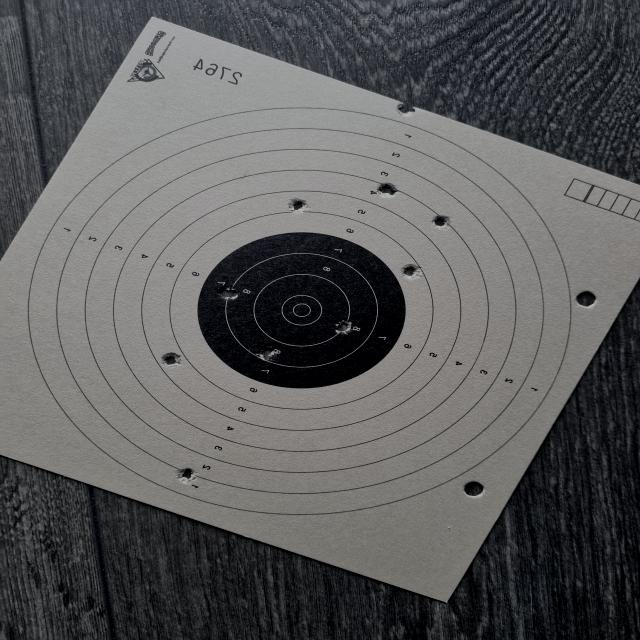0: (396, 104, 417, 115)
2: (174, 467, 197, 484)
4: (374, 182, 400, 195), (431, 214, 453, 229)
5: (160, 352, 182, 368)
6: (288, 197, 312, 214), (399, 264, 422, 280)
7: (217, 286, 230, 299)
8: (255, 345, 278, 361), (227, 287, 240, 300)
9: (332, 319, 354, 336)
Target: (27, 107, 571, 515)
black_contour: (197, 233, 406, 389)
